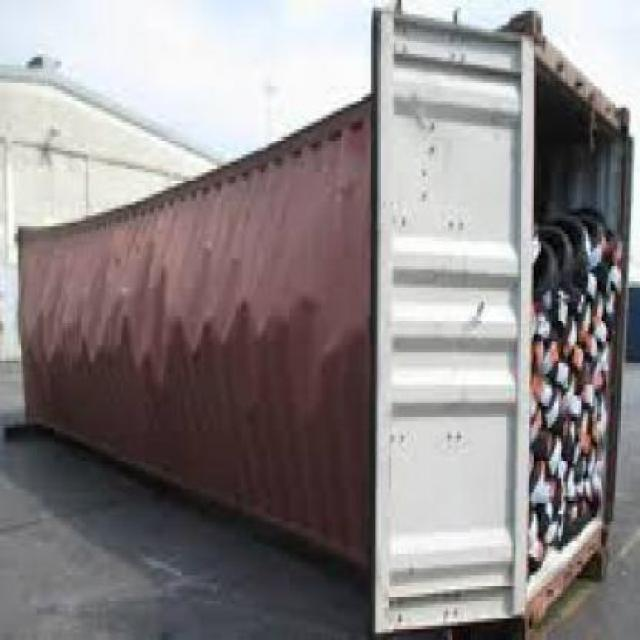dent: (55, 236, 261, 442), (9, 262, 42, 404)
